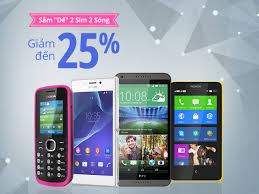nokia: (116, 68, 172, 191), (170, 78, 226, 184), (70, 76, 117, 190), (31, 81, 73, 188)
